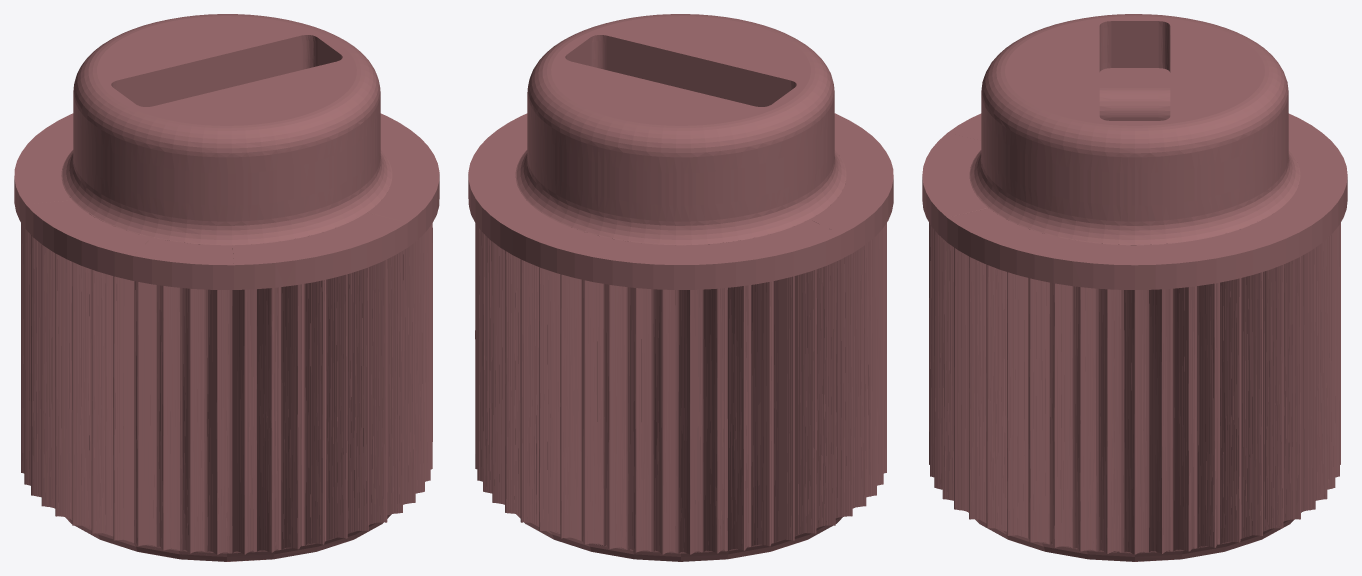
File: smallknob_rose.glb
3 renders of one model, left to right at view 1: azimuth 30°, elevation 25°; view 2: azimuth 150°, elevation 25°; view 3: azimuth 270°, elevation 25°, orthographic.
Size of the model in its own units: 0.018 by 0.0194 by 0.018.
